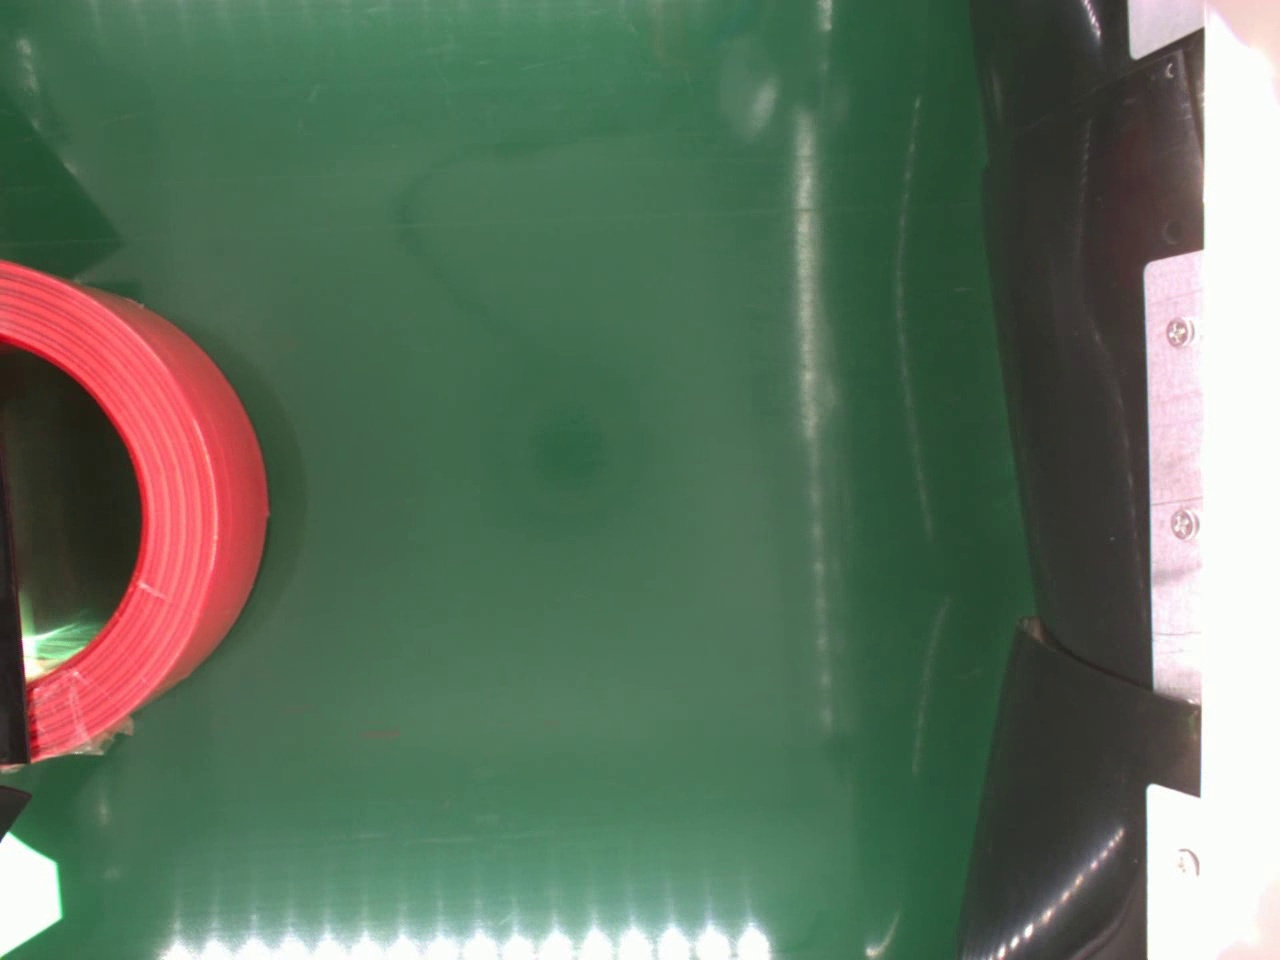red: (0, 252, 267, 765)
